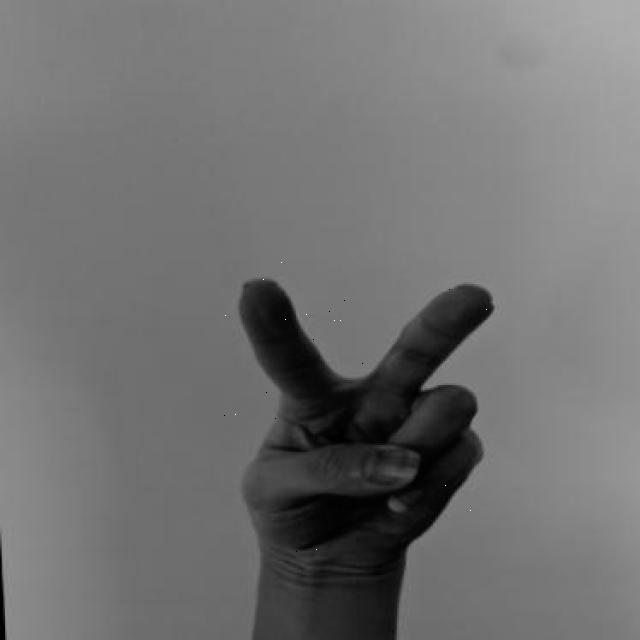V: (219, 262, 515, 570)
